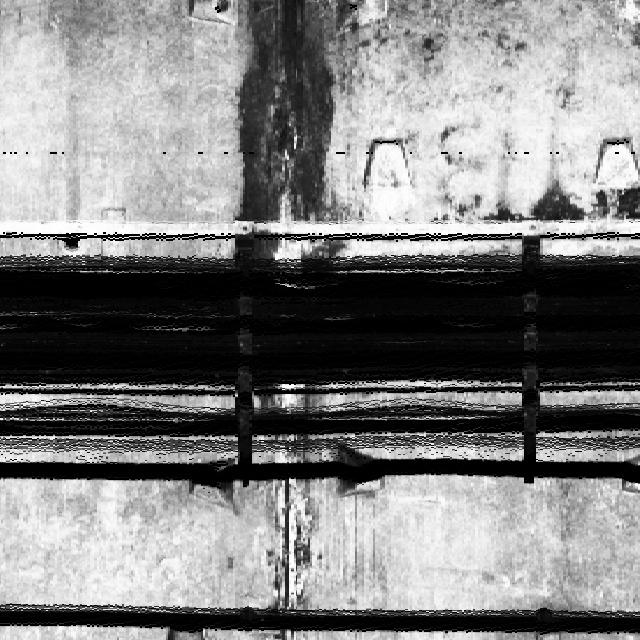leakage: (226, 0, 353, 256), (252, 385, 318, 639)
